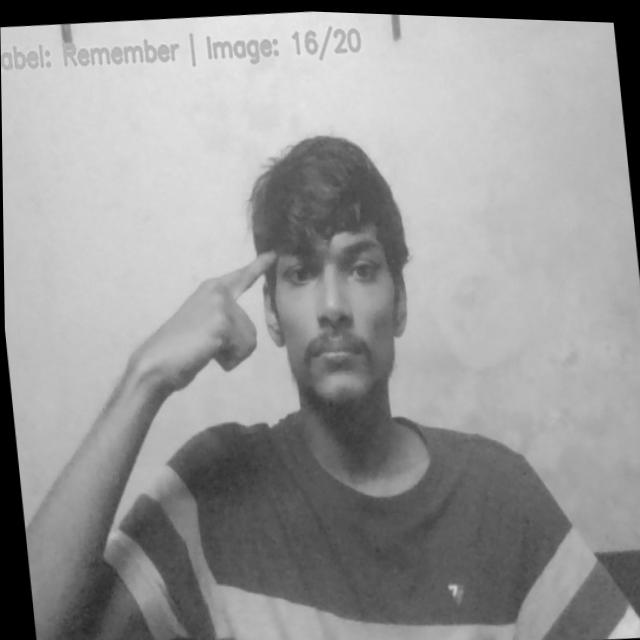Remember: (123, 240, 296, 403)
